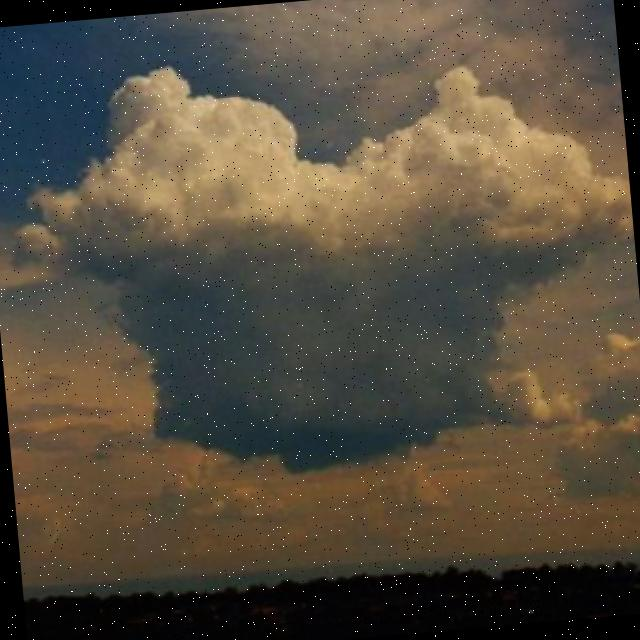Cu: (12, 22, 640, 510)
